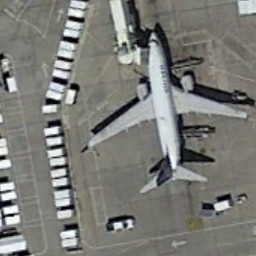Airplane: (78, 23, 252, 195)
